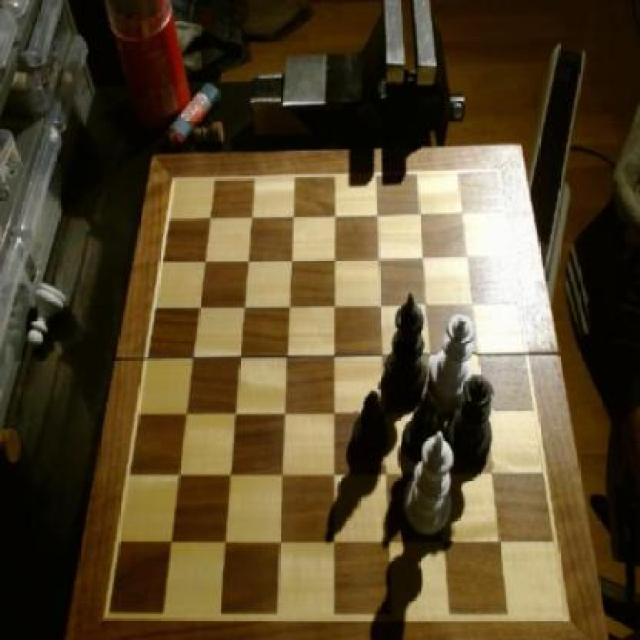bishop: (352, 388, 391, 465), (402, 396, 439, 470)
black-bishop: (382, 290, 428, 402)
black-pawn: (448, 376, 494, 472)
white-bishop: (403, 429, 456, 540)
white-pawn: (430, 314, 476, 404)
